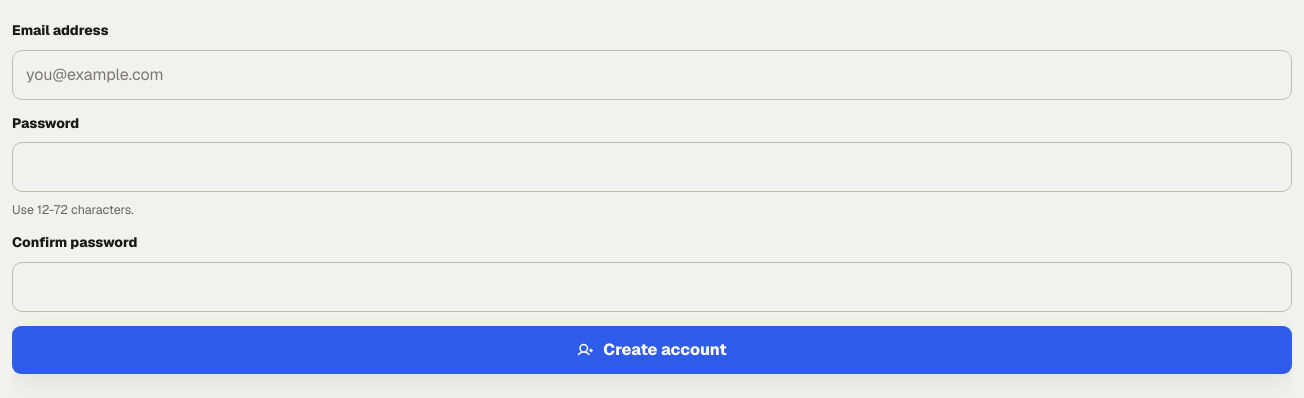
Test: keeps signup check-email copy short and offers the code without claiming delivery
In the field labelled "Email address": (652, 75) left=12, top=50, right=1292, bottom=100, type "student@school.example"
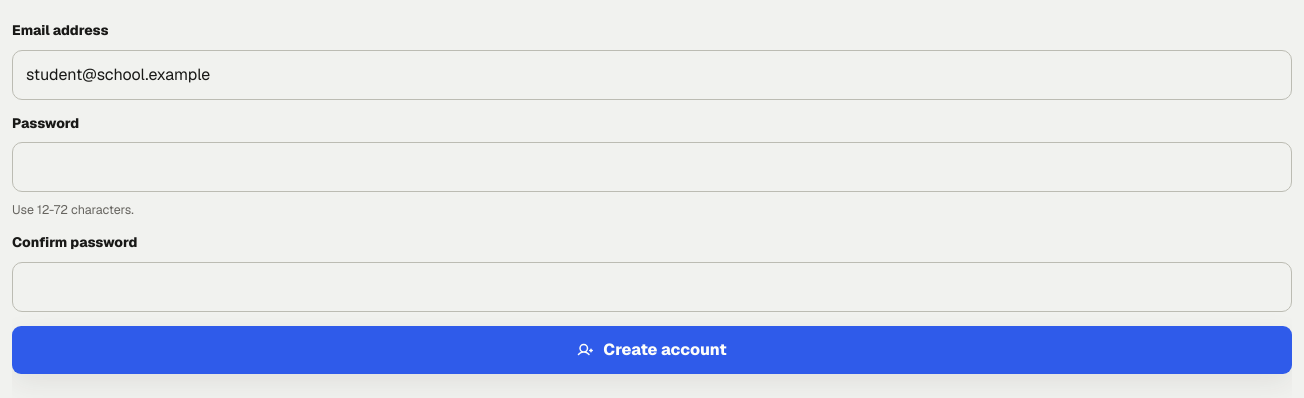
Submit the form "Create account"
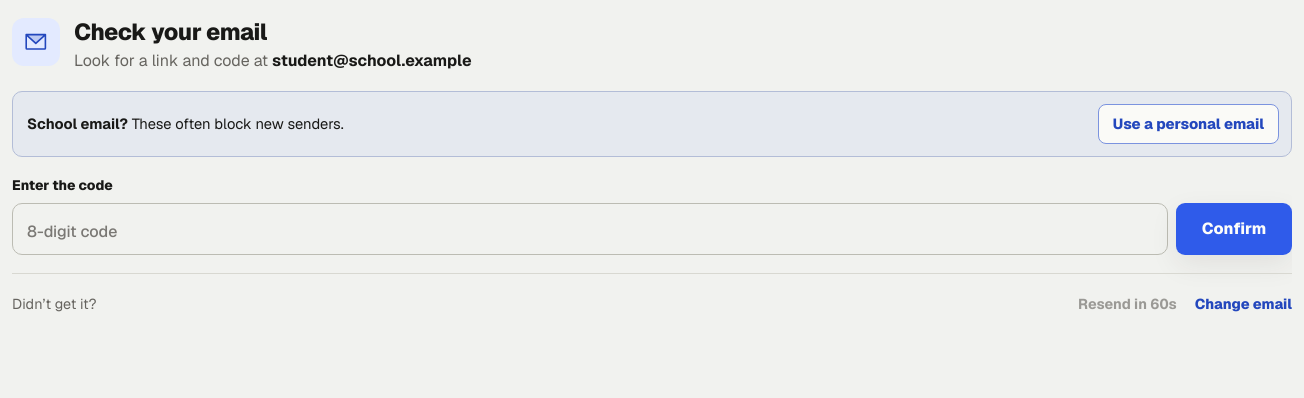
expect the text "Look for a link and code at student@school.example" is shown: met, box left=74, top=50, right=472, bottom=71
expect the field labelled "Enter the code" is shown: met, box left=12, top=203, right=1168, bottom=255
